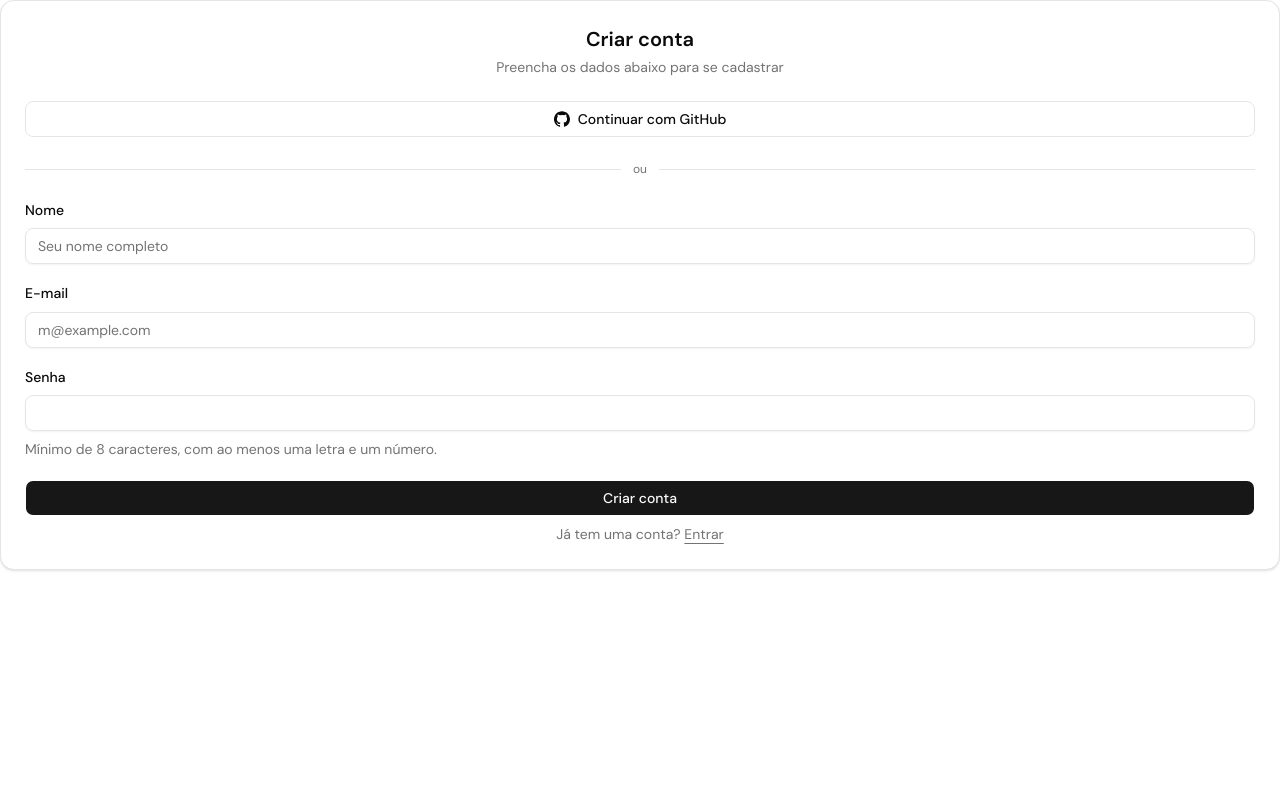
CadastroForm › validação client-side (Zod) › rejeita e-mail em formato inválido
The width and height of the screenshot is (1280, 800).
Type "Maria Silva" into the field labelled "Nome" at point(640, 246), box 25,228 -> 1255,264
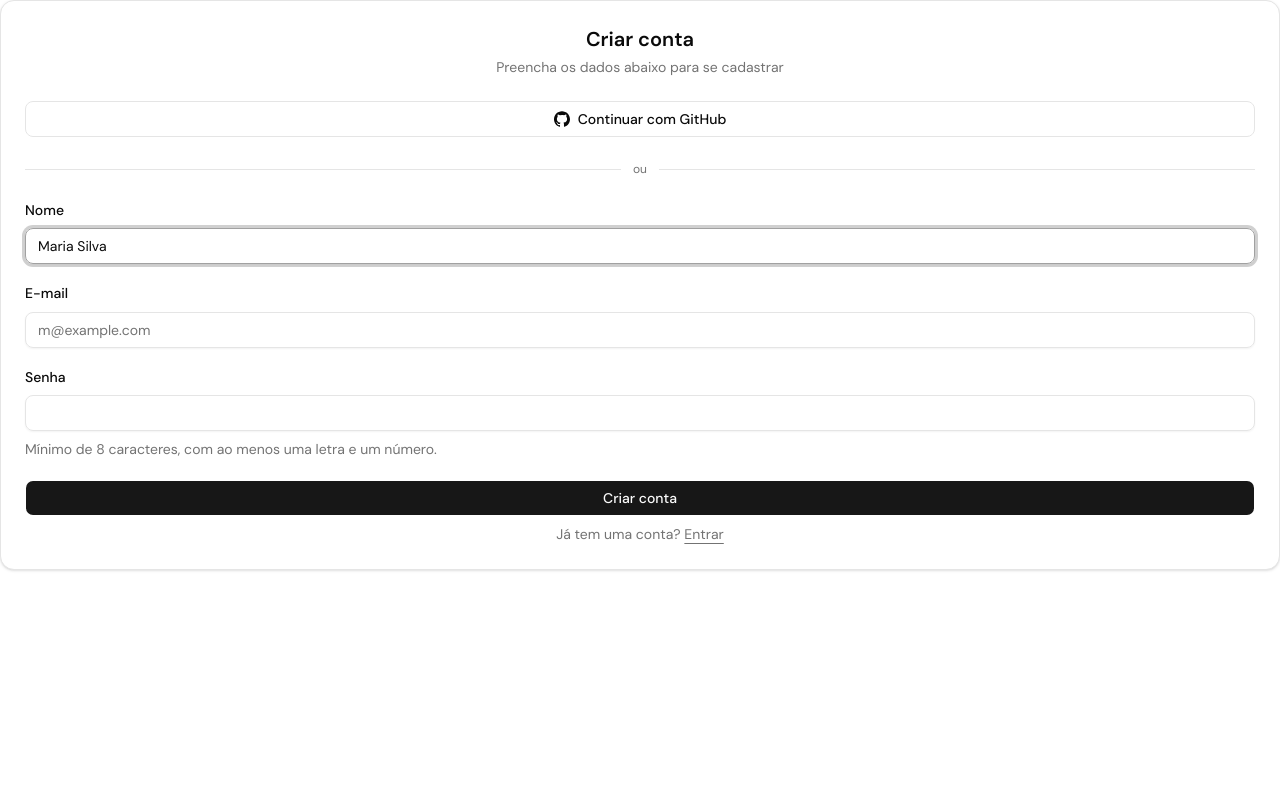
Type "nao-e-um-email" into the field labelled "E-mail" at point(640, 330), box 25,312 -> 1255,348
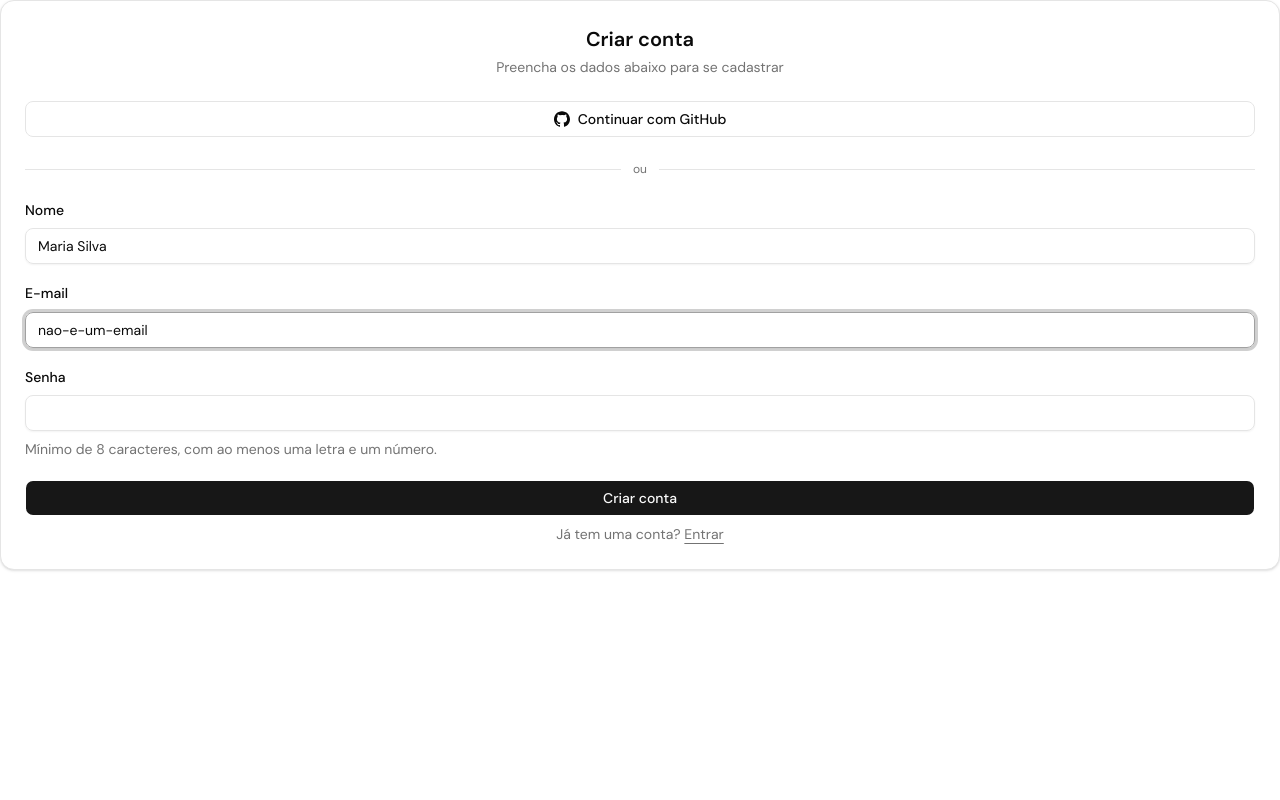
Type "senha123" into the password field labelled "Senha" at point(640, 413), box 25,395 -> 1255,431
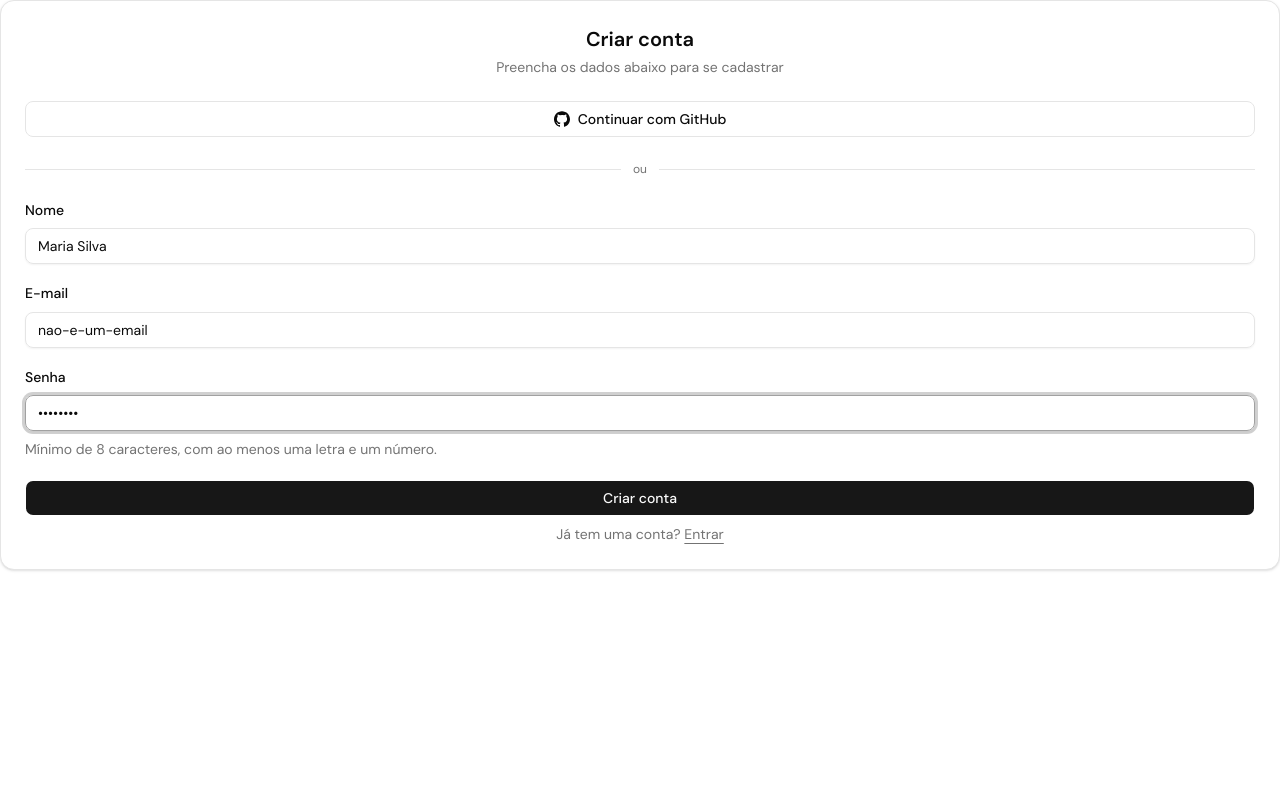
Click the button "Criar conta" at point(640, 498), box 25,480 -> 1255,516
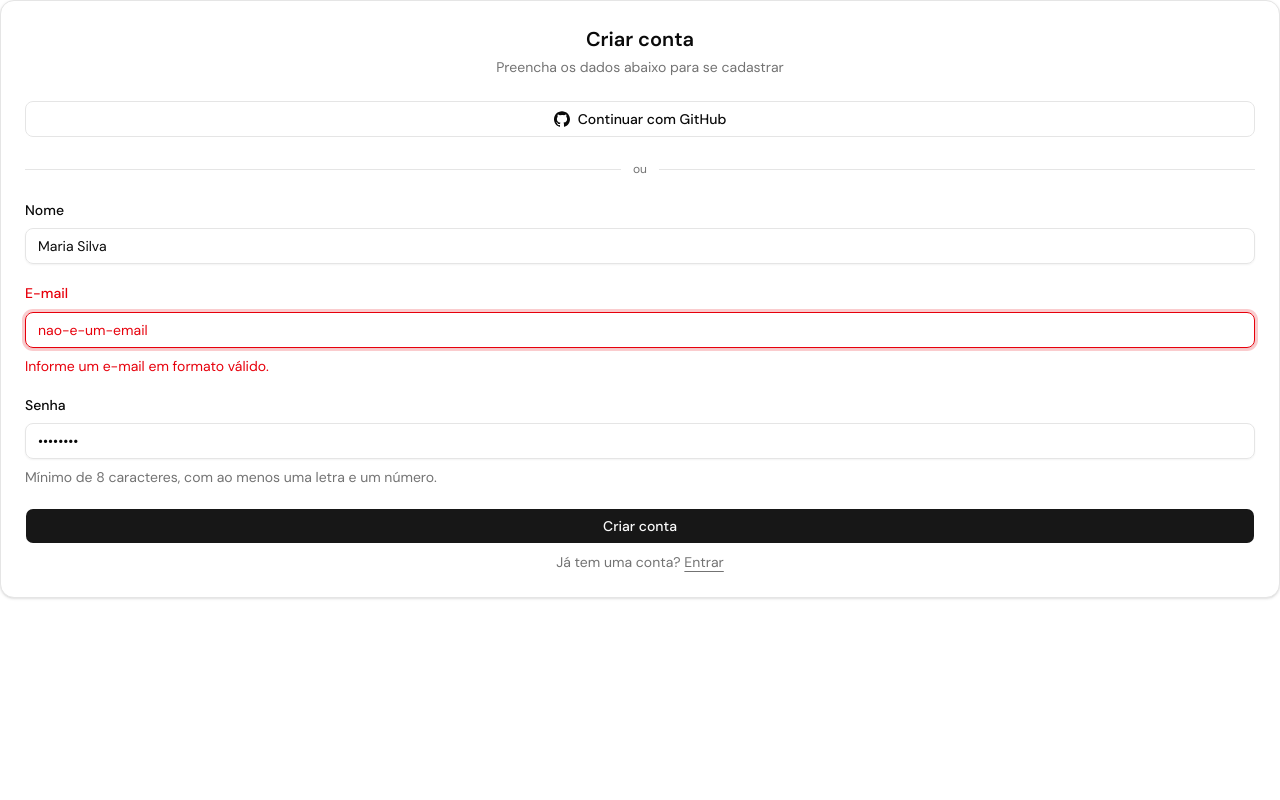
Now the text "Informe um e-mail em formato válido." is shown, box 25,356 -> 269,374
